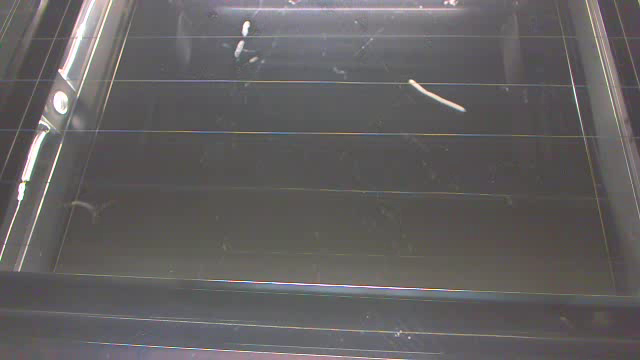alpha: (407, 77, 466, 114), (234, 39, 245, 59), (240, 19, 251, 38)
